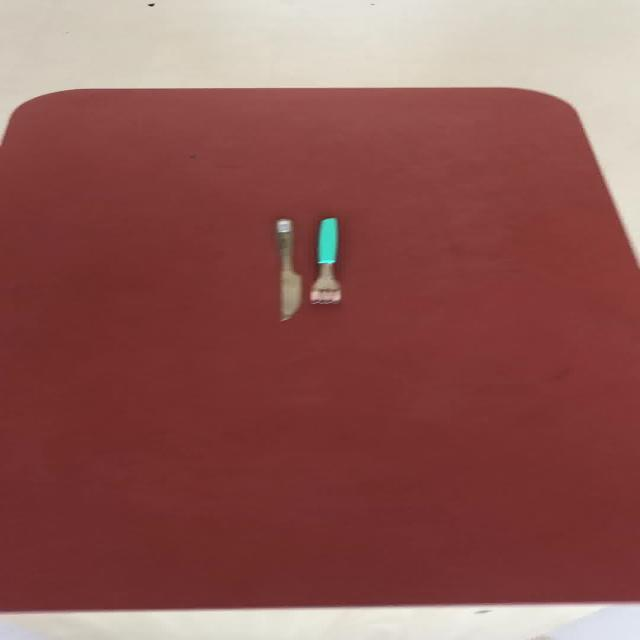fork: (308, 216, 341, 304)
knife fork: (274, 218, 302, 322)
